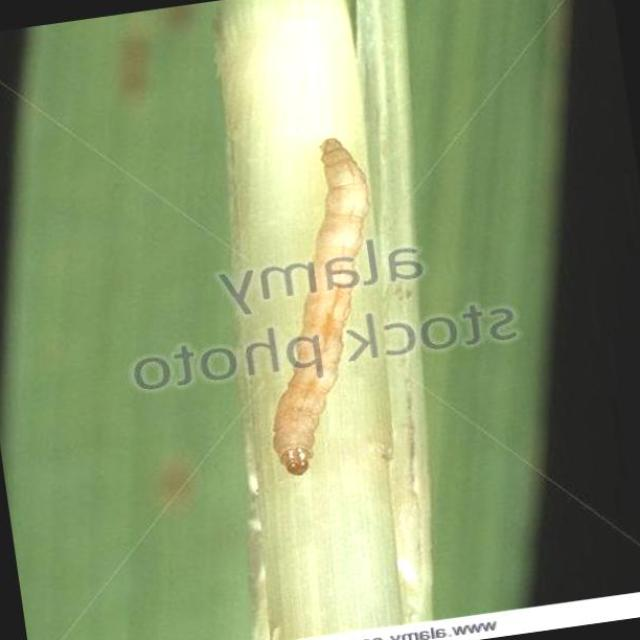stem borer: (274, 139, 368, 475)
